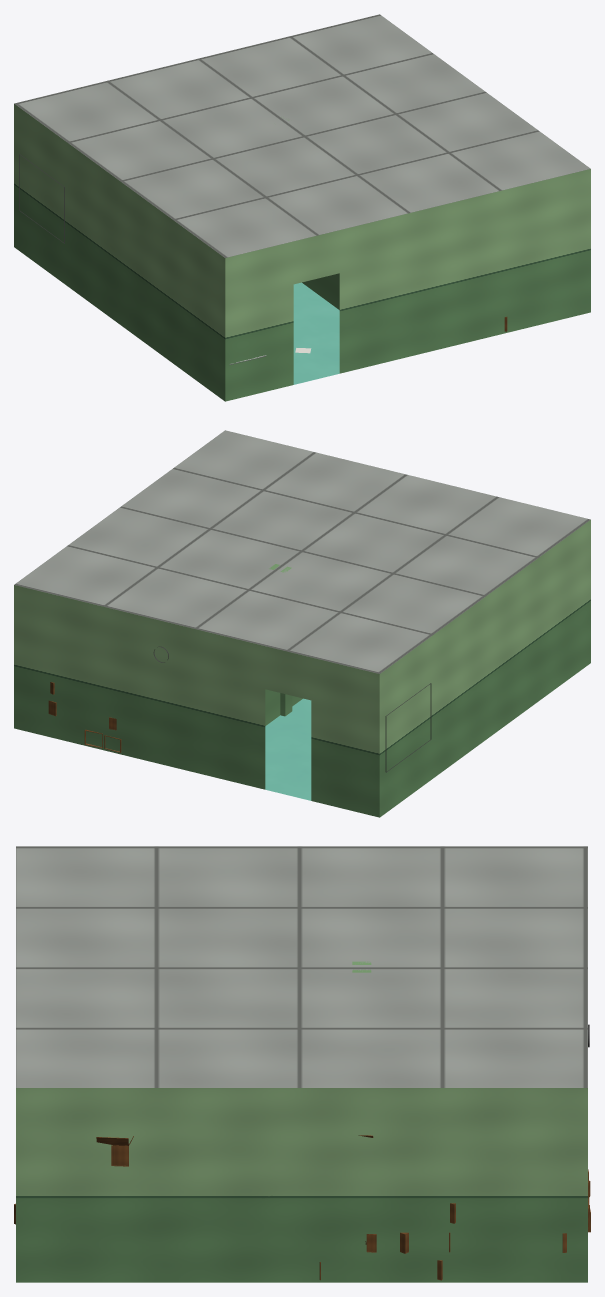
Rendered from codigo.fbx.
3 views of the same model, one above another, from view 1: azimuth 30°, elevation 25°; view 2: azimuth 150°, elevation 25°; view 3: azimuth 270°, elevation 25° (orthographic). The views are drawn at different scales.
Parts seen in each view (by area): view 1: Techo, Pared_Sur, Pared_Oeste, Piso, Pared_Divisoria; view 2: Techo, Pared_Norte, Pared_Oeste, Piso, Pared_Divisoria; view 3: Techo, Pared_Este, Caja_Carton_Abierta.001.
Boxes of the visible parts, x1,y1,x2,y2 form: Techo: (14, 14, 590, 257); Pared_Sur: (225, 169, 590, 401); Pared_Oeste: (14, 104, 225, 401); Piso: (293, 282, 339, 384); Pared_Divisoria: (281, 117, 339, 309); Techo: (14, 430, 590, 673); Pared_Norte: (14, 585, 379, 817); Pared_Oeste: (379, 520, 590, 817); Piso: (265, 698, 311, 800); Pared_Divisoria: (265, 564, 302, 725); Techo: (16, 846, 587, 1087); Pared_Este: (16, 1088, 587, 1282); Caja_Carton_Abierta.001: (96, 1136, 133, 1166).
Size of the model in its own units: 810 by 300 by 807.
63 materials, 18 textured.
